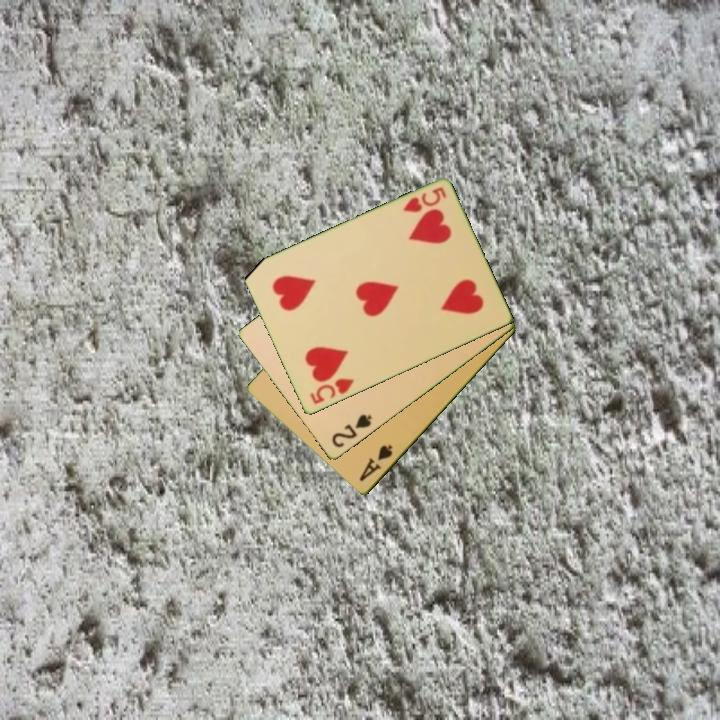2s: (328, 411, 375, 451)
5h: (306, 375, 357, 408), (400, 184, 449, 216)
As: (355, 441, 396, 485)
